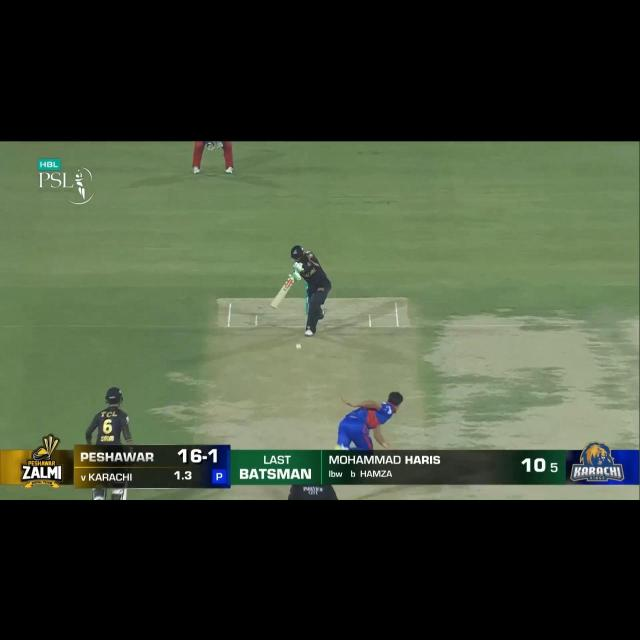bat: (268, 274, 297, 312), (119, 488, 129, 501)
toe: (267, 299, 280, 311)
